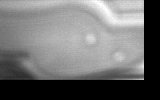cell: (109, 46, 130, 67), (82, 30, 100, 48)
